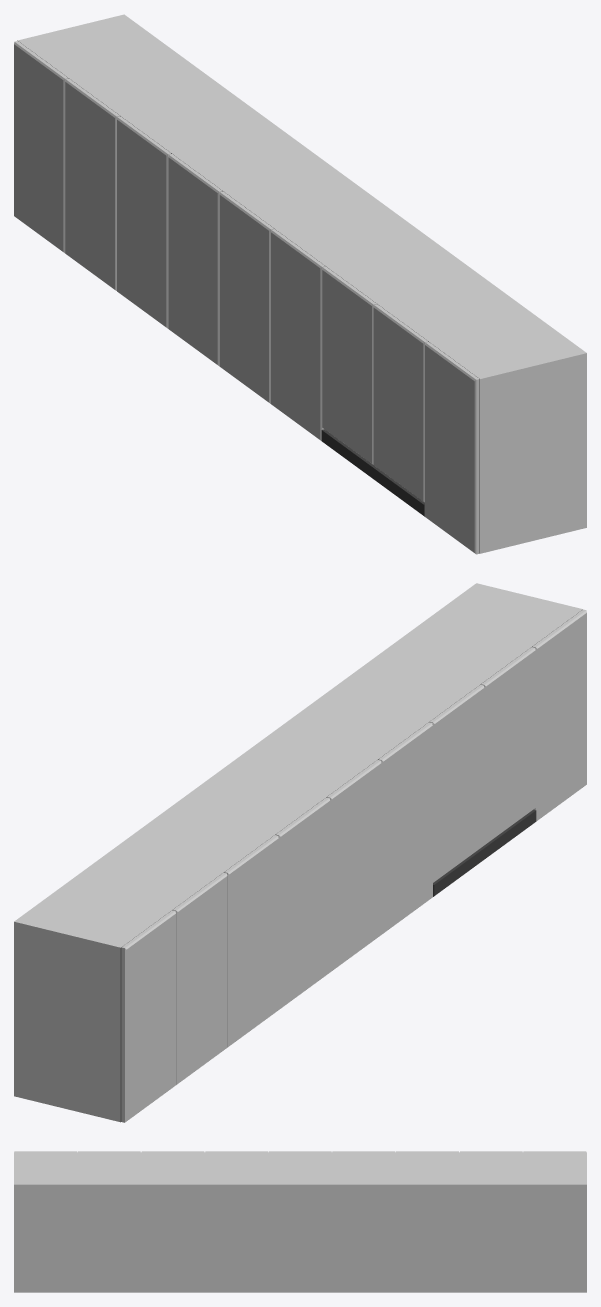
Rendered from House_Kitchen_Cabinet.fbx.
3 views of the same model, one above another, from view 1: azimuth 30°, elevation 25°; view 2: azimuth 150°, elevation 25°; view 3: azimuth 270°, elevation 25° (orthographic). The views are drawn at different scales.
Visible parts, largest first — view 1: kitchen_sink01_close_1__1_.001; view 2: kitchen_sink01_close_1__1_.001; view 3: kitchen_sink01_close_1__1_.001.
Part boxes in pixels (<box>): kitchen_sink01_close_1__1_.001: <box>14,14,586,554</box>; kitchen_sink01_close_1__1_.001: <box>14,583,586,1122</box>; kitchen_sink01_close_1__1_.001: <box>14,1151,586,1292</box>.
Bounding box in the file's own units: 50.08 × 75 × 360.
